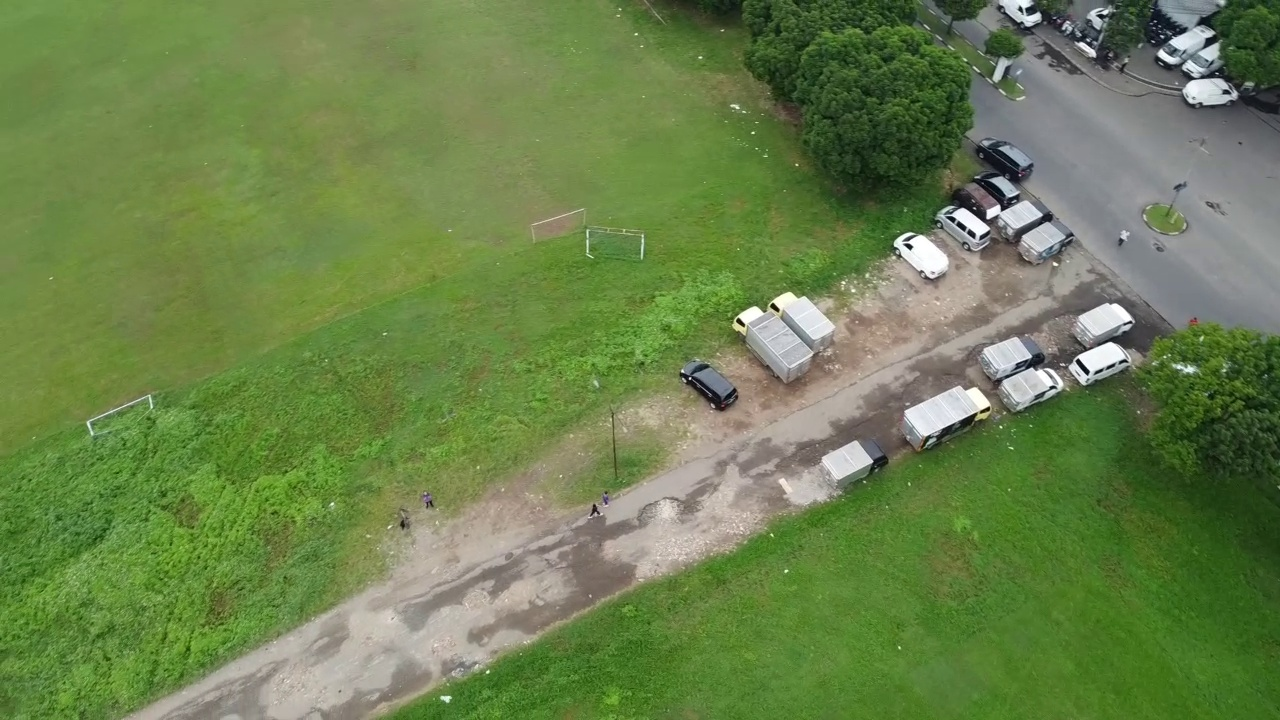mobil: (672, 351, 742, 416), (1067, 334, 1133, 390), (934, 200, 1002, 254), (975, 133, 1039, 182), (894, 224, 951, 279), (1183, 72, 1240, 113), (1153, 29, 1204, 68), (956, 181, 1009, 216), (1182, 43, 1231, 80), (978, 170, 1025, 205), (1004, 1, 1050, 34)
